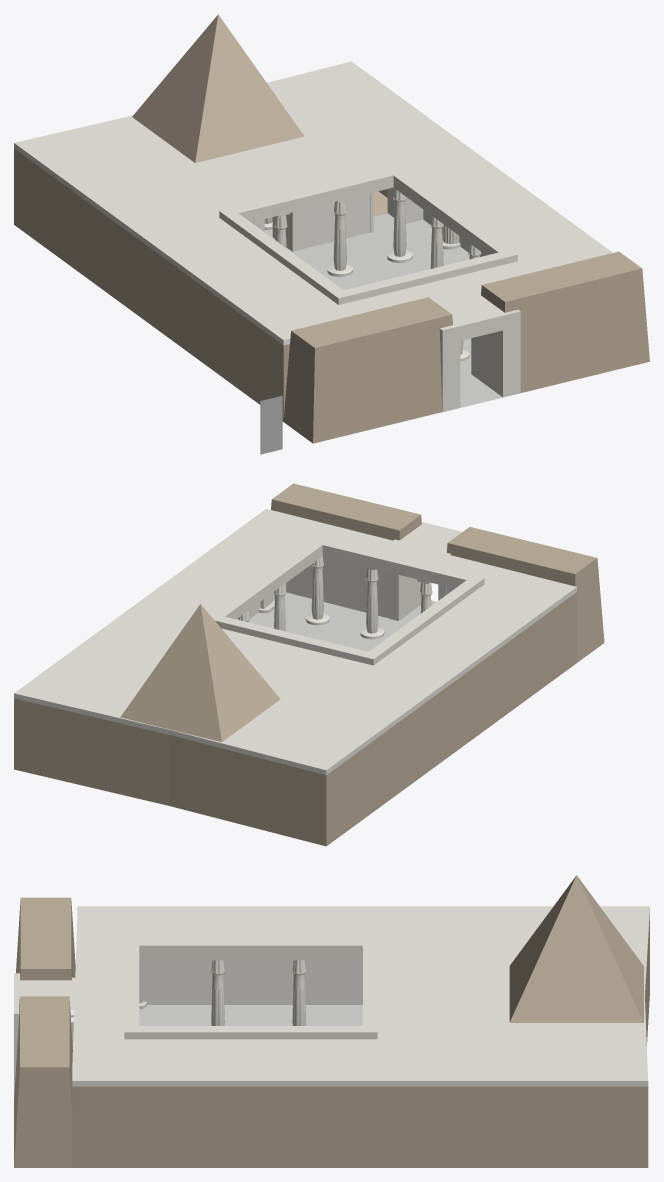
The model's file is Ptahemwia.glb.
3 renders of one model, top to bottom at view 1: azimuth 30°, elevation 25°; view 2: azimuth 150°, elevation 25°; view 3: azimuth 270°, elevation 25°, orthographic. The views are drawn at different scales.
Parts seen in each view (by area): view 1: Mesh39 Model, Mesh37 Component_31_1 Model, Mesh38 Component_31_2 Model, Mesh35 Component_29_1 Model, Mesh36 Component_30_1 Model, Mesh42 Model, Mesh19 Component_22_10 Model, Mesh15 Component_22_8 Model; view 2: Mesh39 Model, Mesh35 Component_29_1 Model, Mesh37 Component_31_1 Model, Mesh38 Component_31_2 Model, Mesh36 Component_30_1 Model, Mesh23 Component_22_12 Model, Mesh9 Component_22_5 Model; view 3: Mesh39 Model, Mesh35 Component_29_1 Model, Mesh38 Component_31_2 Model, Mesh37 Component_31_1 Model, Mesh36 Component_30_1 Model, Mesh5 Component_22_3 Model, Mesh3 Component_22_2 Model.
Boxes of the visible parts, x1,y1,x2,y2 form: Mesh39 Model: (14,61,612,421); Mesh37 Component_31_1 Model: (283,297,452,443); Mesh38 Component_31_2 Model: (481,251,649,392); Mesh35 Component_29_1 Model: (132,14,304,162); Mesh36 Component_30_1 Model: (438,293,520,412); Mesh42 Model: (260,395,282,454); Mesh19 Component_22_10 Model: (333,198,349,270); Mesh15 Component_22_8 Model: (393,189,406,256); Mesh39 Model: (14,509,576,846); Mesh35 Component_29_1 Model: (120,604,280,741); Mesh37 Component_31_1 Model: (446,527,604,662); Mesh38 Component_31_2 Model: (271,483,421,540); Mesh36 Component_30_1 Model: (390,522,461,620); Mesh23 Component_22_12 Model: (363,566,378,633); Mesh9 Component_22_5 Model: (311,556,323,619); Mesh39 Model: (14,906,649,1167); Mesh35 Component_29_1 Model: (509,875,643,1022); Mesh38 Component_31_2 Model: (14,996,72,1167); Mesh37 Component_31_1 Model: (16,897,75,980); Mesh36 Component_30_1 Model: (14,973,75,1049); Mesh5 Component_22_3 Model: (292,958,306,1025); Mesh3 Component_22_2 Model: (210,958,225,1025).
Bounding box in the file's own units: 12.08 × 5.81 × 16.17.
